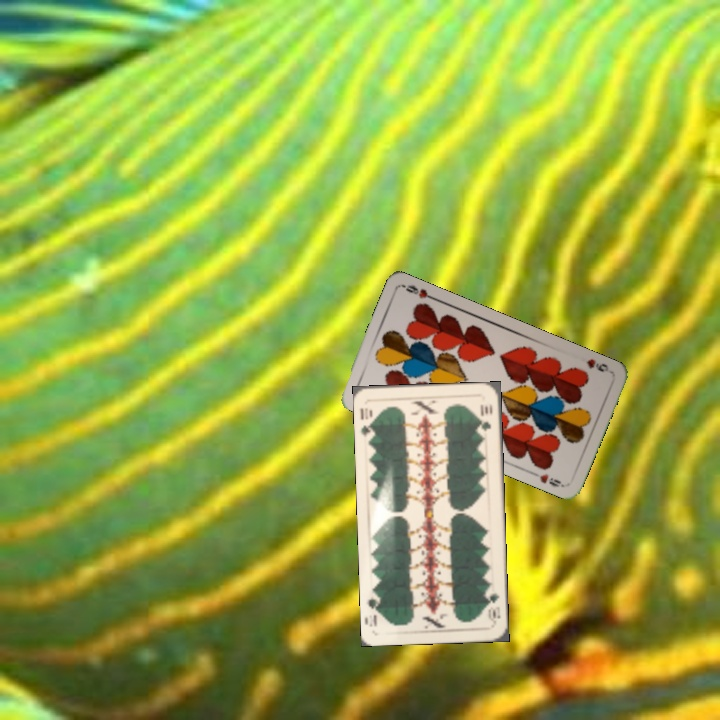G10: (356, 404, 377, 441), (483, 589, 502, 625)
H9: (581, 354, 611, 374)
